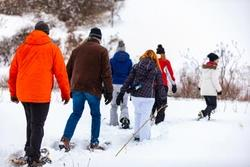coat: (8, 30, 70, 104), (65, 39, 113, 97), (120, 59, 166, 100), (107, 52, 134, 86), (198, 64, 221, 97), (152, 58, 176, 87)
trousers: (62, 90, 102, 144), (21, 101, 51, 162), (132, 96, 155, 139), (109, 85, 130, 127), (150, 84, 169, 123), (201, 95, 218, 120)
